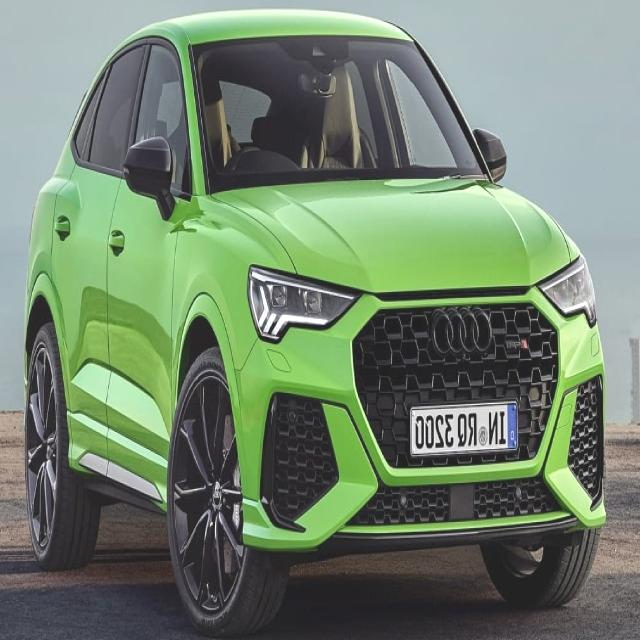green: (24, 9, 606, 629)
